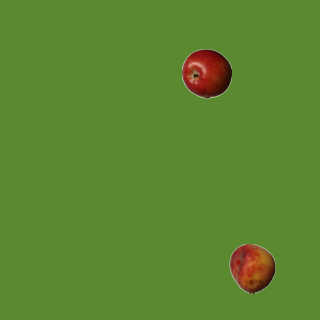Apple Braeburn: (181, 48, 231, 98)
Peach: (227, 243, 277, 293)
